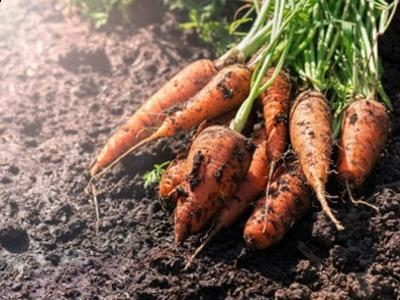carrot: (86, 48, 394, 248), (254, 70, 394, 251), (175, 118, 246, 246)
